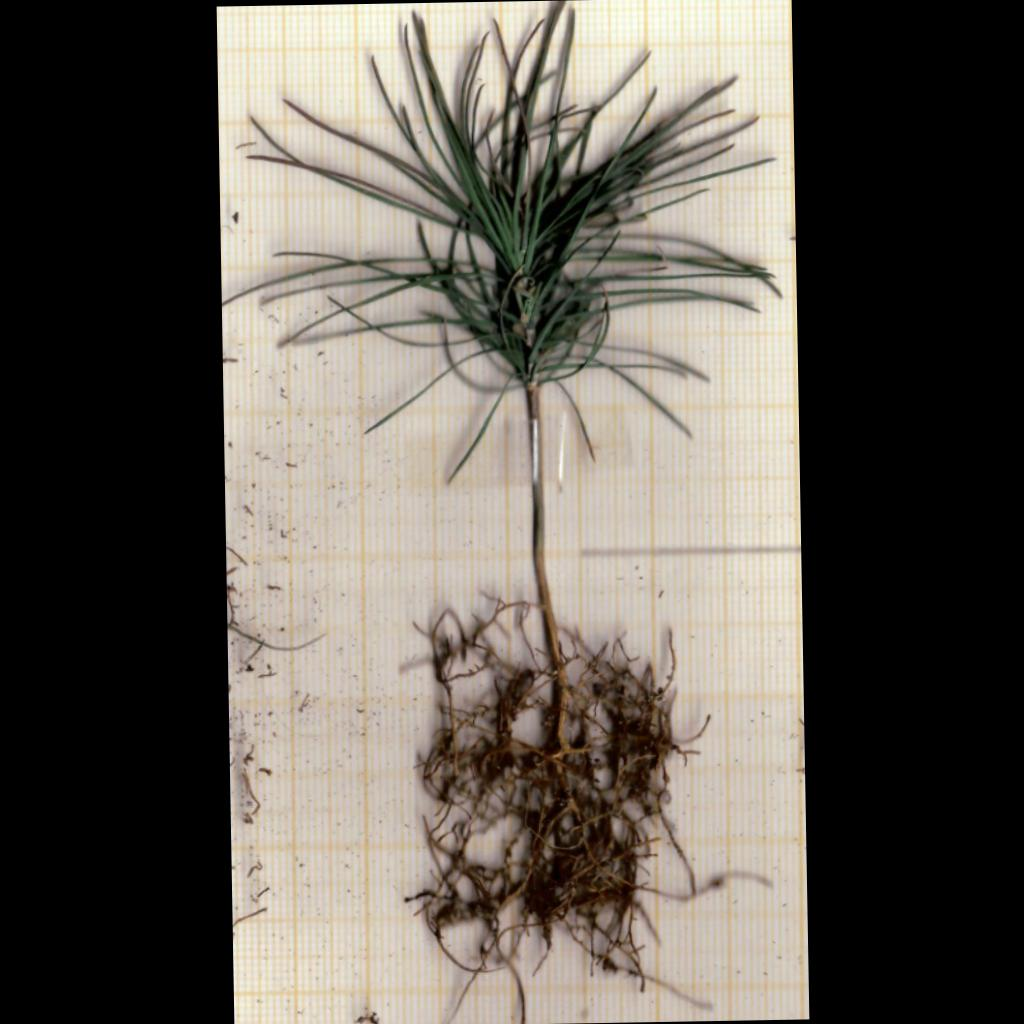flowerCedr: (267, 0, 773, 470)
rootCedr: (413, 601, 699, 1023)
stemCedr: (526, 387, 567, 703)
